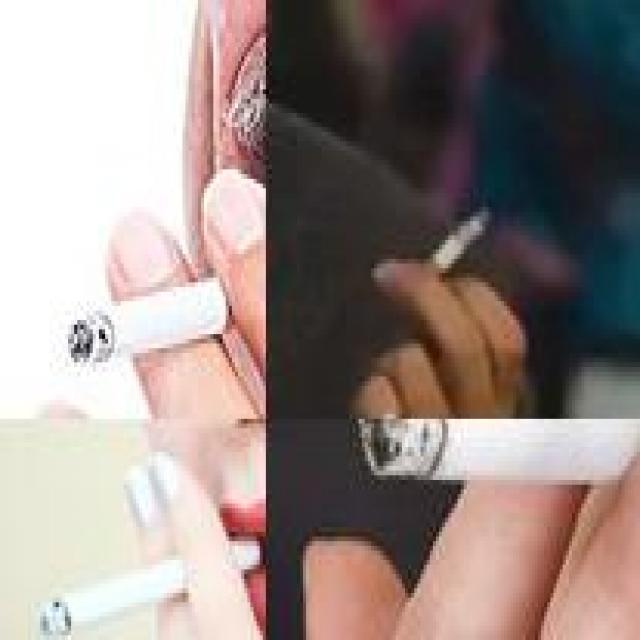cigarette: (34, 532, 263, 636), (65, 254, 263, 372), (352, 418, 637, 489), (410, 207, 493, 292)
